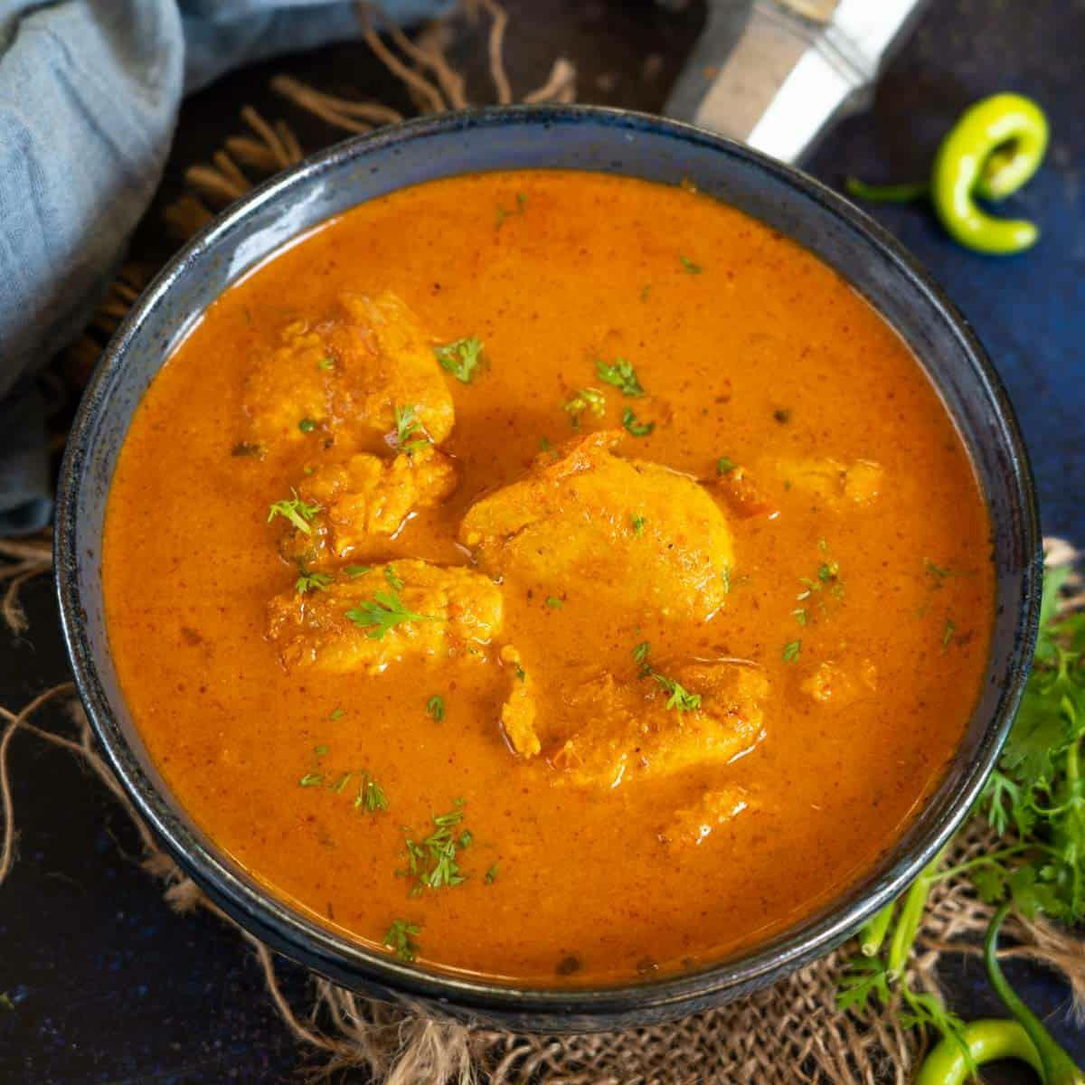FishCurry: (109, 167, 996, 975)
